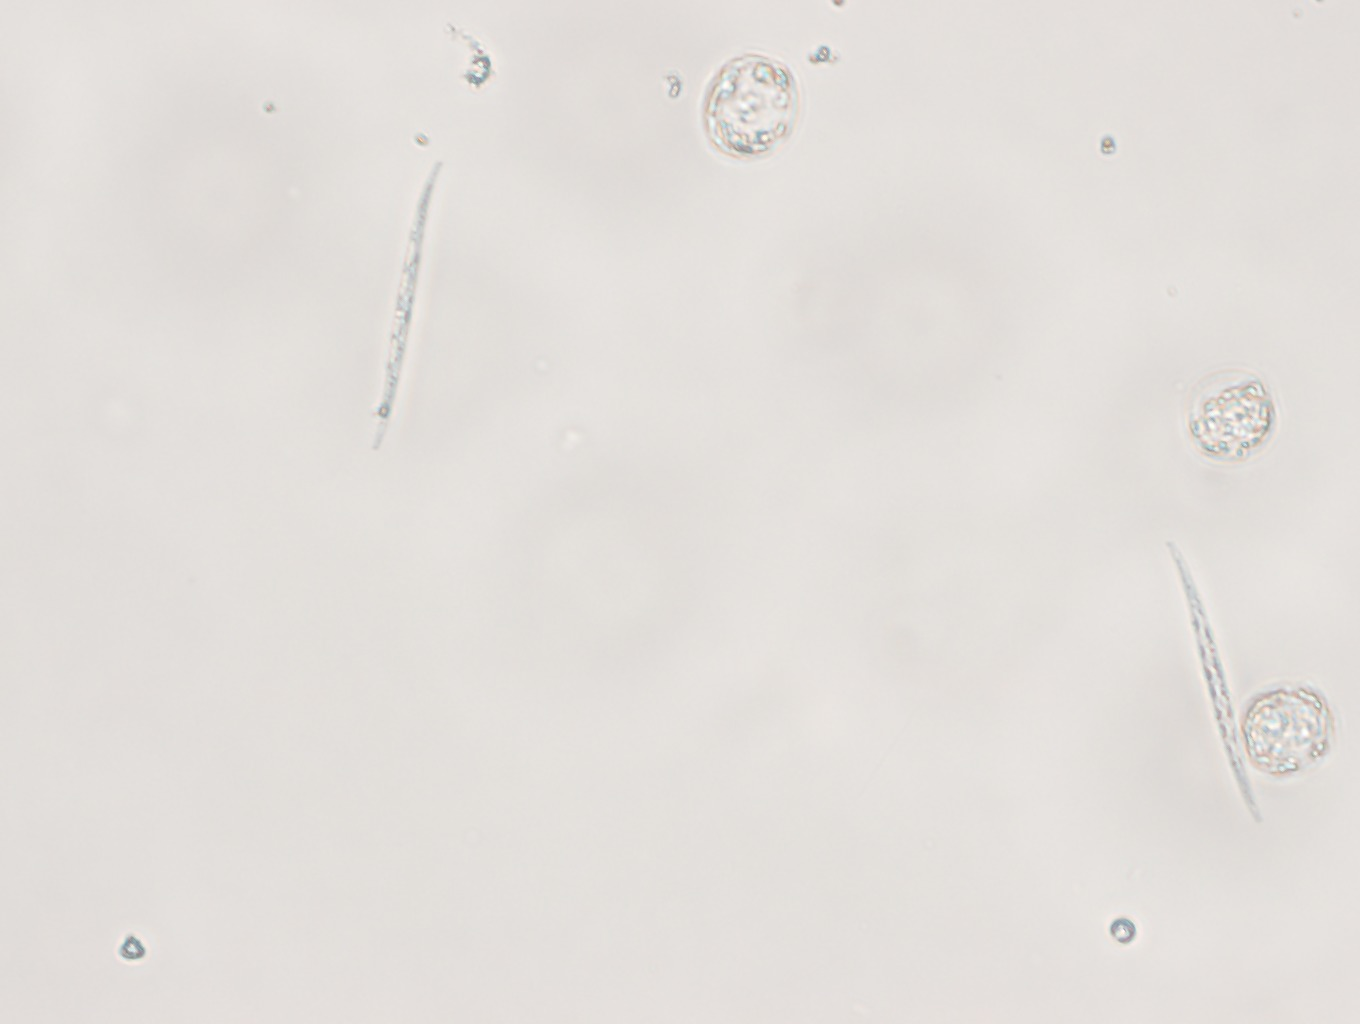pleurosigma pelagicum: (1160, 542, 1264, 815), (375, 163, 446, 447)
